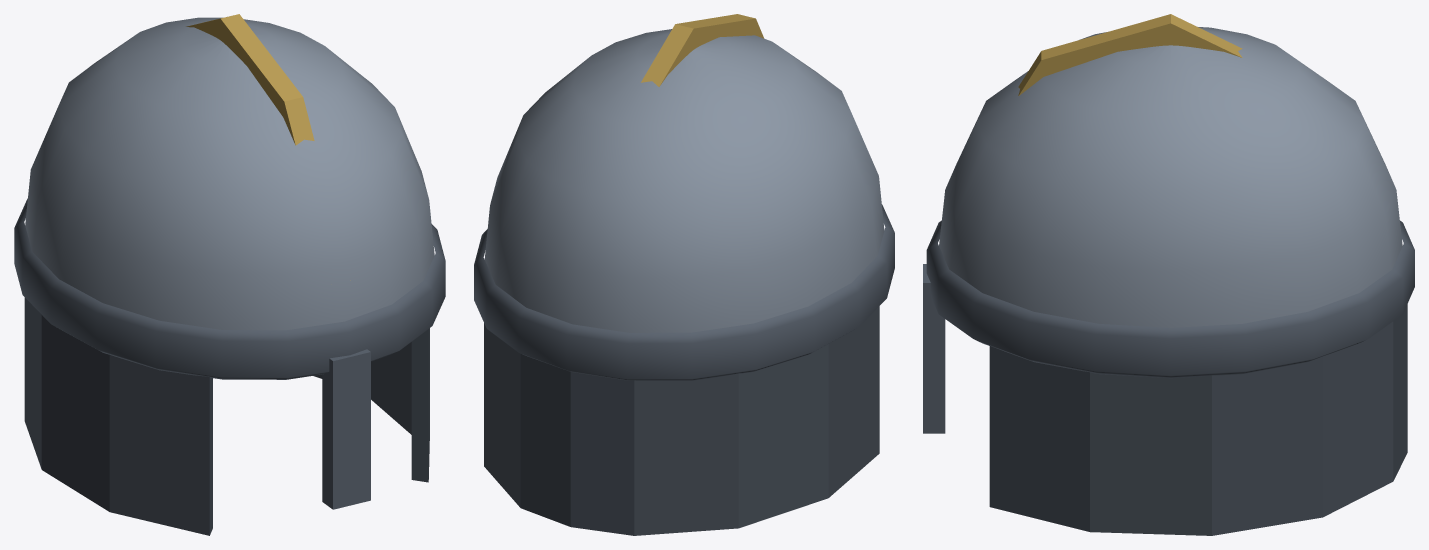
File: HelmD.glb
3 renders of one model, left to right at view 1: azimuth 30°, elevation 25°; view 2: azimuth 150°, elevation 25°; view 3: azimuth 270°, elevation 25°, orthographic. The views are drawn at different scales.
Parts seen in each view (by area): view 1: D_dome, D_aventail, D_brim, D_nasal, D_ridge; view 2: D_dome, D_aventail, D_brim, D_ridge; view 3: D_dome, D_aventail, D_brim, D_ridge, D_nasal.
Boxes of the visible parts, left/top/right/bottom form: D_dome: left=25, top=17, right=434, bottom=330; D_aventail: left=24, top=297, right=429, bottom=535; D_brim: left=14, top=198, right=445, bottom=379; D_nasal: left=322, top=349, right=370, bottom=509; D_ridge: left=186, top=14, right=350, bottom=280; D_dome: left=484, top=29, right=884, bottom=332; D_aventail: left=484, top=306, right=879, bottom=535; D_brim: left=474, top=204, right=894, bottom=380; D_ridge: left=641, top=14, right=764, bottom=86; D_dome: left=939, top=27, right=1402, bottom=327; D_aventail: left=989, top=304, right=1407, bottom=535; D_brim: left=926, top=220, right=1414, bottom=378; D_ridge: left=1018, top=14, right=1242, bottom=95; D_nasal: left=923, top=264, right=945, bottom=433.
Size of the model in its own units: 0.227 by 0.259 by 0.266.
